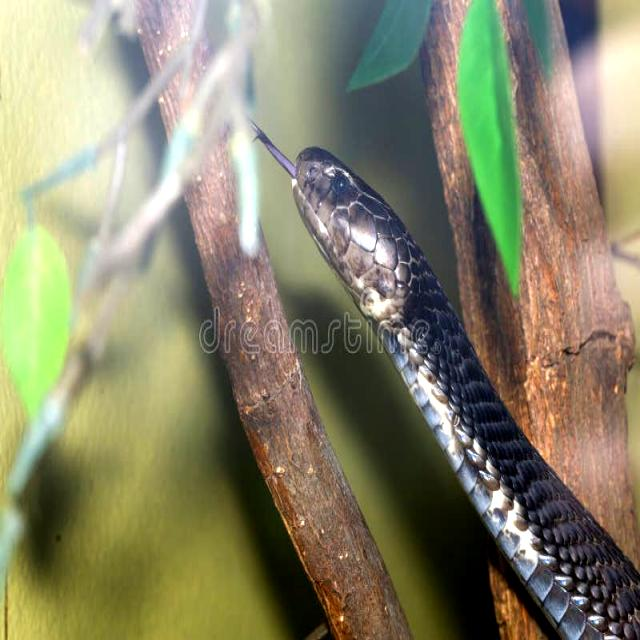Naja siamensis: (254, 125, 639, 639)
